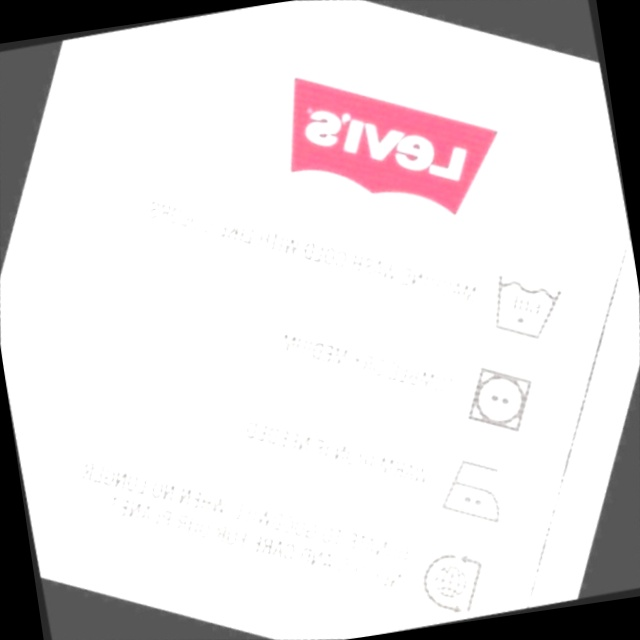30C: (470, 248, 580, 361)
iron_medium: (416, 435, 528, 546)
tumble_dry_medium: (443, 344, 553, 453)
